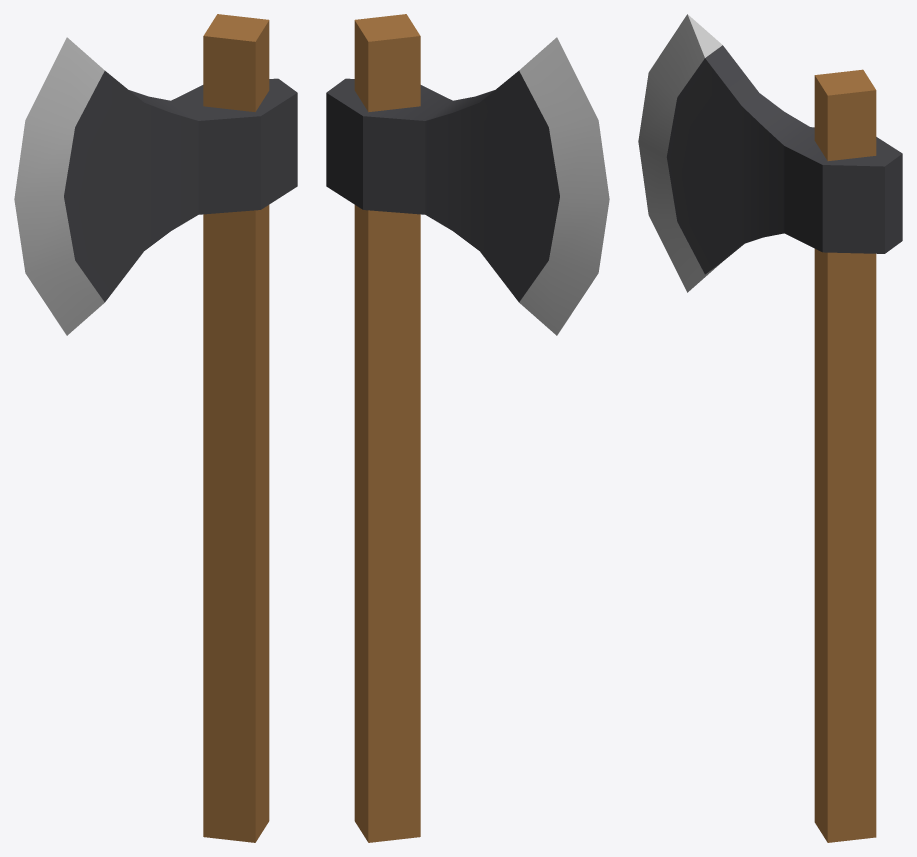
File: axe.fbx
3 views of the same model, side by side, from view 1: azimuth 30°, elevation 25°; view 2: azimuth 150°, elevation 25°; view 3: azimuth 330°, elevation 25° (orthographic). The views are drawn at different scales.
Visible parts, largest first — view 1: axe; view 2: axe; view 3: axe.
Part boxes in pixels (left/top/right/bottom): axe: left=14, top=14, right=297, bottom=842; axe: left=326, top=14, right=609, bottom=842; axe: left=638, top=14, right=902, bottom=842.
Bounding box in the file's own units: 36.66 × 107 × 11.34.
